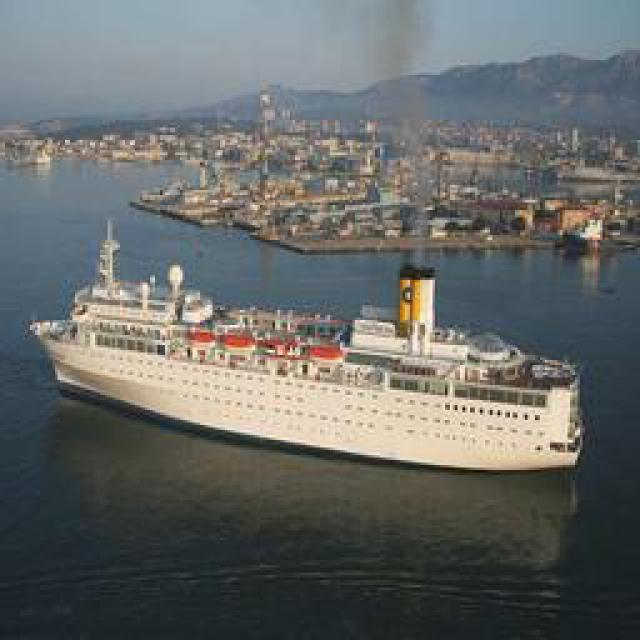Ship: (36, 222, 589, 482)
